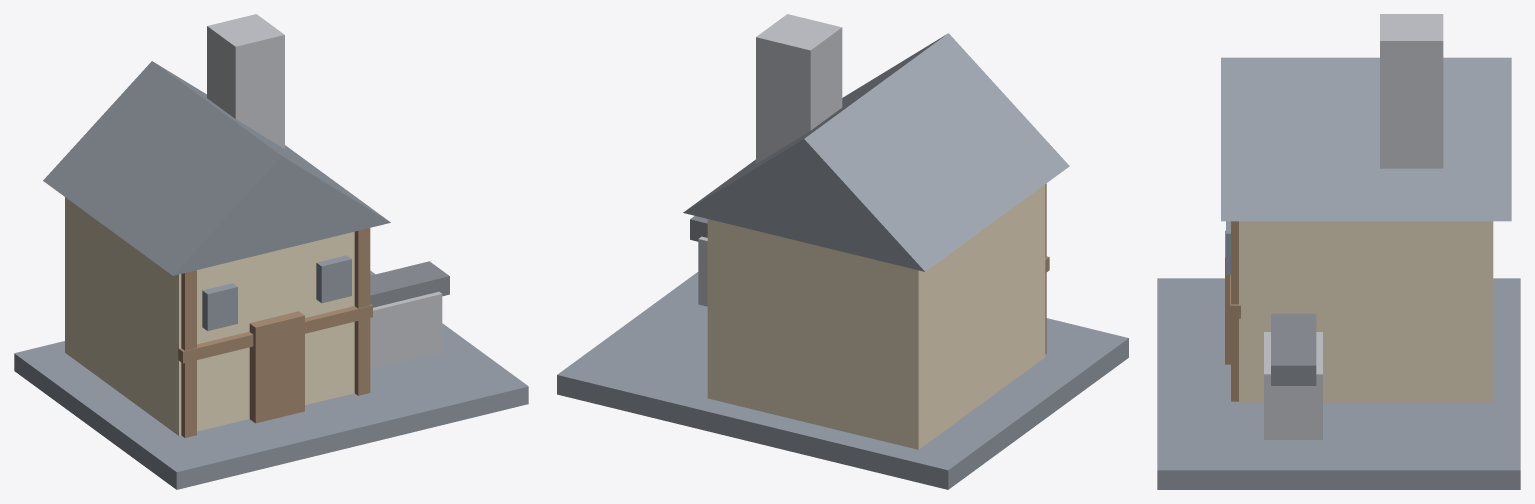
Rendered from herreria.glb.
The picture shows the model from 3 angles, left to right: view 1: azimuth 30°, elevation 25°; view 2: azimuth 150°, elevation 25°; view 3: azimuth 270°, elevation 25°; orthographic projection. The views are drawn at different scales.
Parts seen in each view (by area): view 1: world; view 2: world; view 3: world.
Boxes of the visible parts, box(x1,y1,x2,y2) form: world: box(14, 14, 528, 489); world: box(557, 14, 1128, 489); world: box(1157, 14, 1520, 489).
Size of the model in its own units: 5 by 4.5 by 4.
